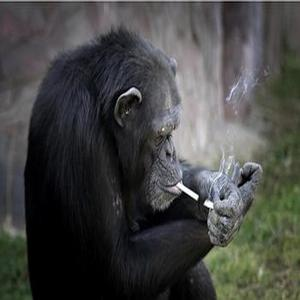cigarette: (175, 181, 201, 203)
